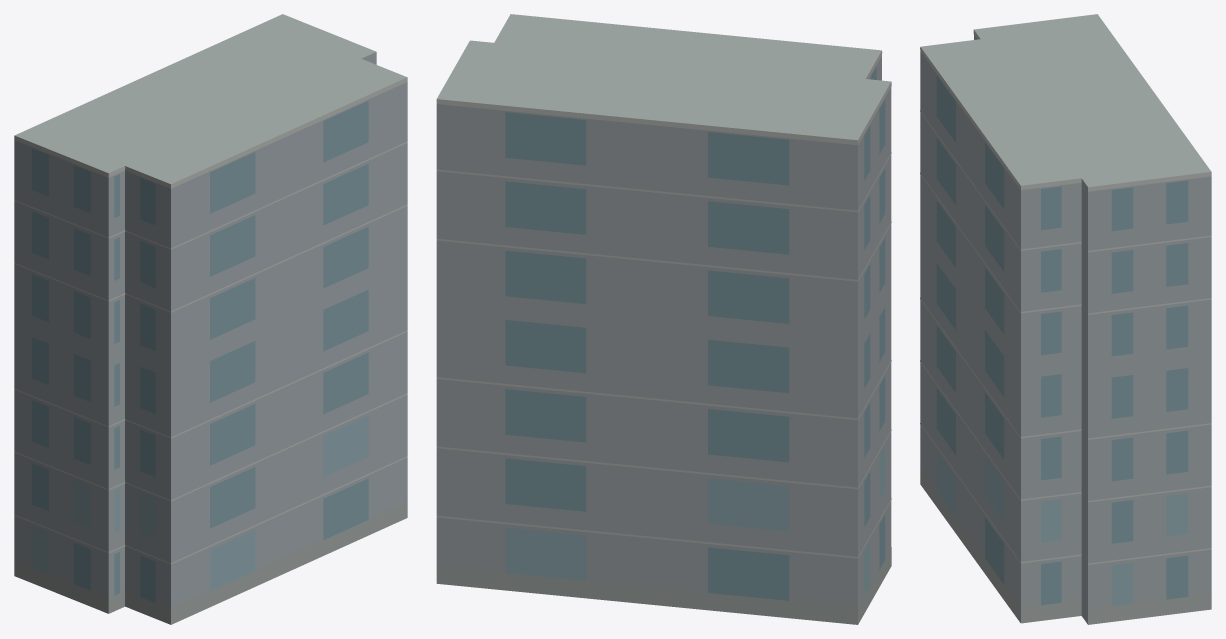
File: survey-upis-32763582.glb
The picture shows the model from 3 angles, left to right: view 1: azimuth 30°, elevation 25°; view 2: azimuth 150°, elevation 25°; view 3: azimuth 270°, elevation 25°; orthographic projection. The views are drawn at different scales.
Parts seen in each view (by area): view 1: survey-upis-32763582.tmp; view 2: survey-upis-32763582.tmp; view 3: survey-upis-32763582.tmp.
Part boxes in pixels (<box>): survey-upis-32763582.tmp: <box>14,14,407,624</box>; survey-upis-32763582.tmp: <box>436,14,891,624</box>; survey-upis-32763582.tmp: <box>920,14,1211,624</box>.
Bounding box in the file's own units: 19.98 × 23.5 × 14.2.
